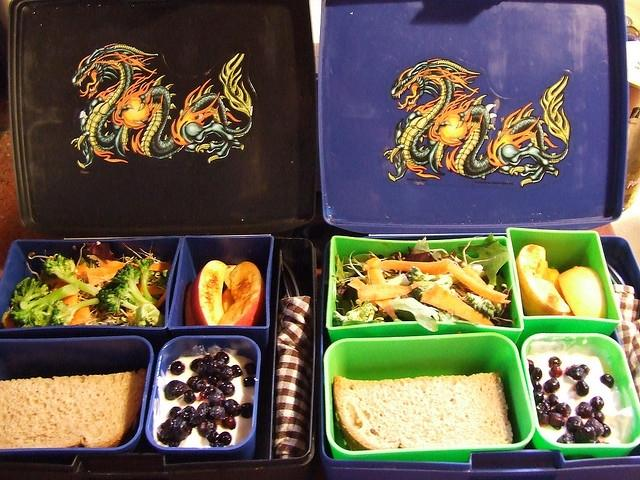apple: (516, 244, 574, 316), (218, 261, 266, 327), (558, 266, 608, 318), (190, 260, 228, 326), (543, 267, 560, 286)
blueberry: (164, 380, 187, 400), (176, 408, 197, 428), (565, 364, 590, 380), (584, 417, 604, 437), (575, 425, 596, 444), (197, 419, 217, 437), (566, 416, 583, 434), (548, 411, 565, 428), (544, 377, 560, 394), (170, 360, 186, 376), (556, 402, 572, 418), (589, 396, 605, 412), (536, 399, 552, 415), (220, 365, 234, 382), (209, 406, 225, 420), (576, 380, 589, 397), (208, 394, 225, 407), (240, 402, 252, 419), (556, 434, 576, 444), (600, 374, 614, 388), (221, 382, 235, 396), (218, 432, 232, 446), (222, 416, 236, 430), (186, 376, 202, 388), (160, 418, 173, 432), (192, 379, 206, 392), (548, 365, 562, 378), (215, 352, 230, 364), (184, 390, 196, 404), (530, 367, 542, 381), (190, 358, 202, 372), (170, 406, 182, 419), (229, 403, 241, 416), (203, 385, 216, 397), (548, 357, 562, 368), (592, 411, 604, 423), (532, 380, 542, 394), (198, 402, 210, 413), (206, 432, 218, 443), (243, 376, 256, 386), (243, 364, 256, 374), (548, 394, 558, 406), (582, 406, 594, 416), (200, 360, 210, 372), (534, 390, 544, 402), (232, 364, 242, 376), (164, 432, 174, 442), (208, 376, 218, 386), (204, 354, 216, 362), (184, 406, 196, 414), (216, 380, 227, 388), (527, 359, 535, 370), (217, 359, 225, 368), (209, 360, 218, 368)
broccoli: (10, 284, 80, 328), (95, 262, 152, 314), (44, 253, 100, 296), (406, 266, 459, 302), (50, 298, 99, 326), (10, 276, 50, 308), (134, 258, 158, 303), (466, 292, 502, 320)
carrot: (420, 283, 496, 326), (448, 263, 509, 303), (369, 259, 454, 275), (358, 284, 412, 302), (86, 266, 122, 286), (461, 266, 488, 286), (69, 306, 92, 326), (136, 284, 166, 296), (1, 310, 15, 328), (384, 304, 398, 320), (74, 262, 89, 276), (156, 290, 167, 307), (149, 264, 172, 271), (78, 296, 82, 301)
peach: (515, 244, 571, 316), (218, 262, 266, 327), (558, 266, 607, 318), (190, 260, 228, 326), (543, 268, 568, 306), (224, 265, 237, 290)
